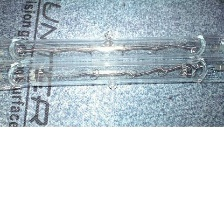light_bulb: (4, 57, 224, 87), (3, 34, 219, 64)
